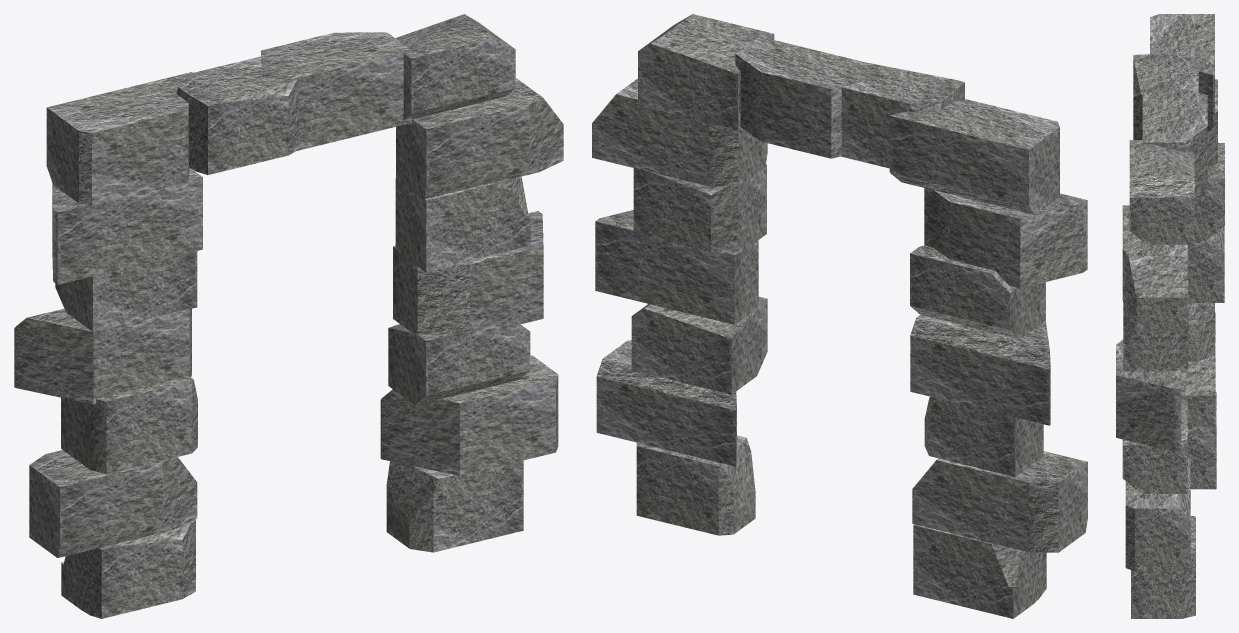
Rendered from CastleDoorFrame.obj.
3 renders of one model, left to right at view 1: azimuth 30°, elevation 25°; view 2: azimuth 150°, elevation 25°; view 3: azimuth 270°, elevation 25°, orthographic. The views are drawn at different scales.
Parts seen in each view (by area): view 1: pCube105; view 2: pCube105; view 3: pCube105.
Boxes of the visible parts, x1,y1,x2,y2 form: pCube105: (14, 14, 563, 618); pCube105: (592, 14, 1087, 618); pCube105: (1116, 14, 1224, 618).
Bounding box in the file's own units: 3.49 × 3.35 × 0.7631.
